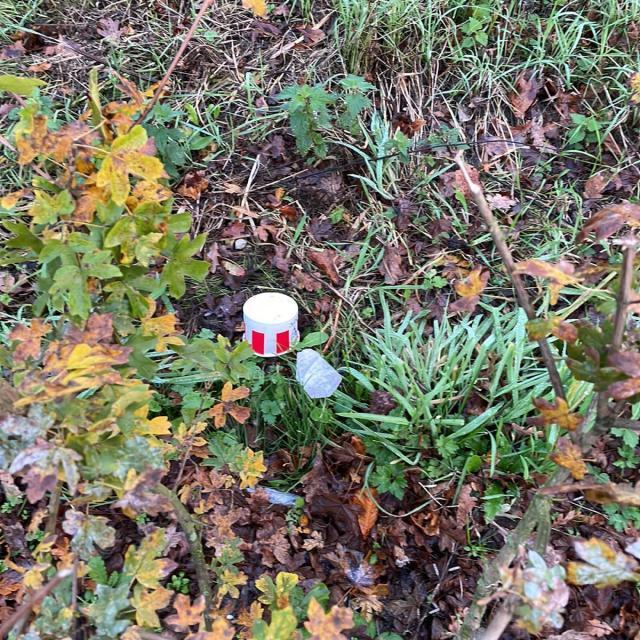Paper: (241, 291, 301, 358)
